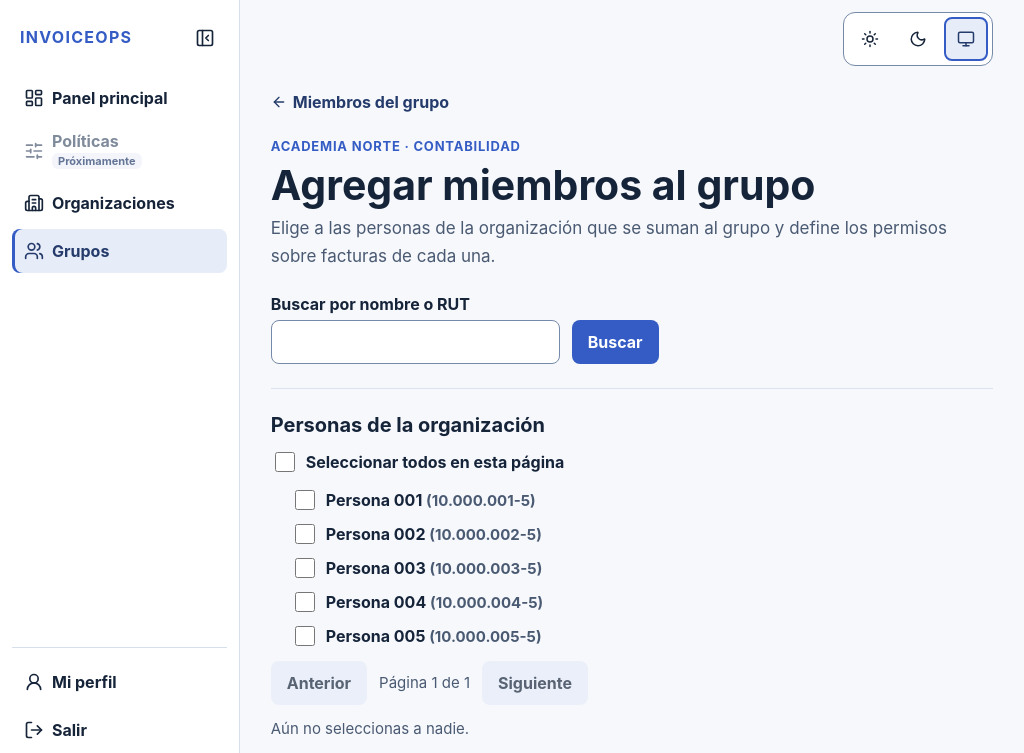
AddMembersForm pre-check (CR-312/CR-313) › says so and disables the submit when everybody was pruned
This screenshot has width=1024, height=753.
What coordinates should you click on to do the following:
click the checkbox labelled "Persona 001 (10.000.001-5)"
I would click on:
 (305, 500)
Its box is [295, 490, 315, 510].
(page scrolled)
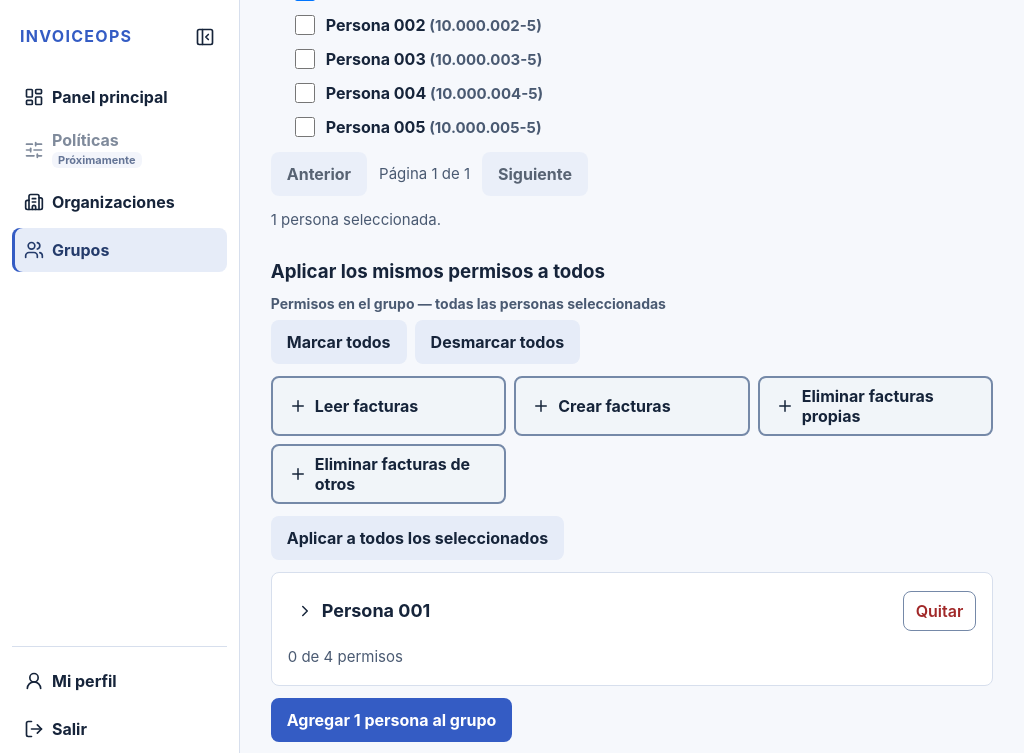
What coordinates should you click on to do the following:
click the button "Agregar 1 persona al grupo"
I would click on:
 (392, 720)
Its box is [271, 698, 512, 742].
(page scrolled)
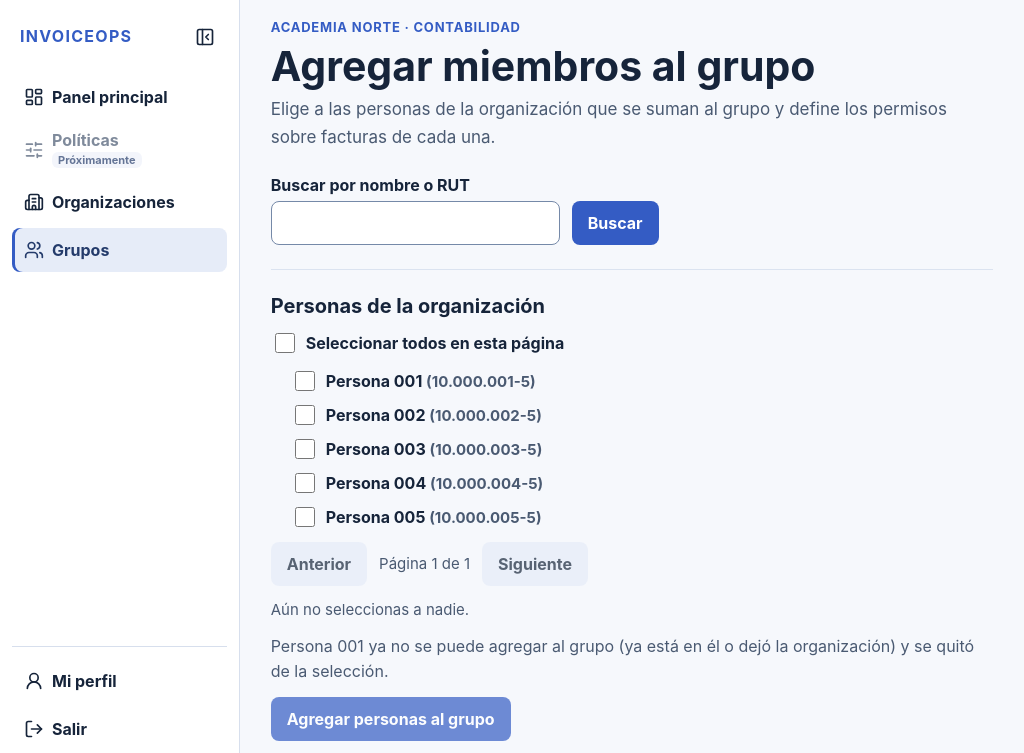
Now the text "Persona 001 ya no se puede agregar al grupo" is shown, box [271, 634, 993, 685]
Now the button "Agregar personas al grupo" is disabled, box [271, 697, 511, 741]
